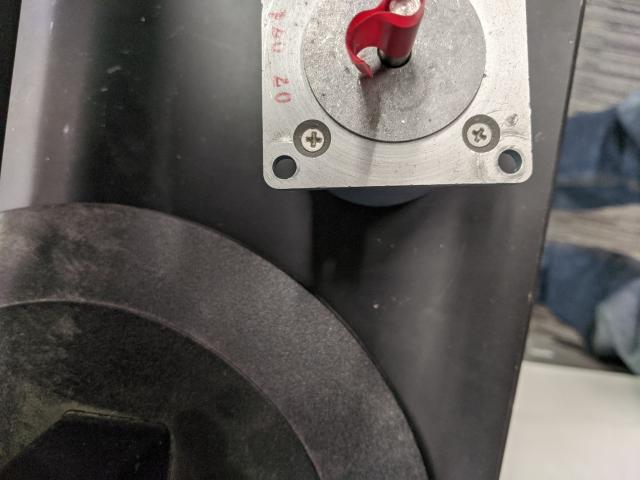CRS: (302, 126, 326, 152), (468, 123, 492, 147)
